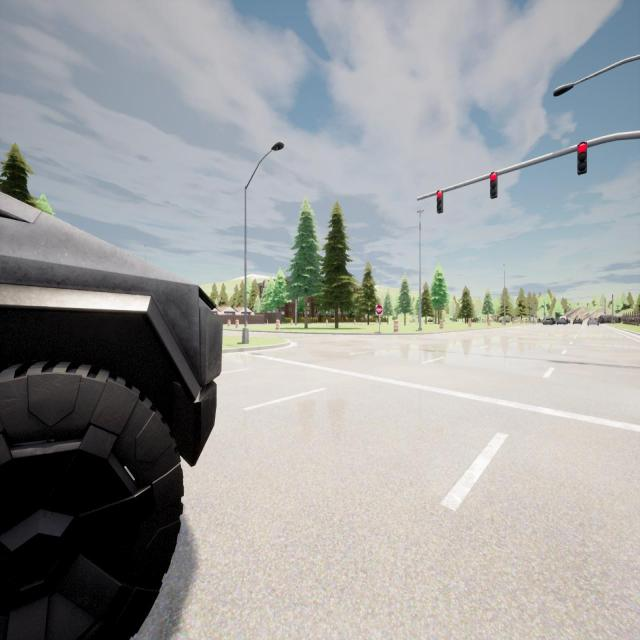Pedestrian: (607, 317, 609, 324), (602, 318, 604, 324), (618, 317, 620, 323)
Traffic_Signs: (376, 304, 384, 315)
Vehicle: (2, 173, 224, 640), (572, 314, 583, 326), (542, 316, 555, 325), (556, 316, 570, 324), (587, 318, 599, 326)
traffic_light: (578, 142, 587, 175), (490, 172, 498, 200), (436, 190, 444, 213)
